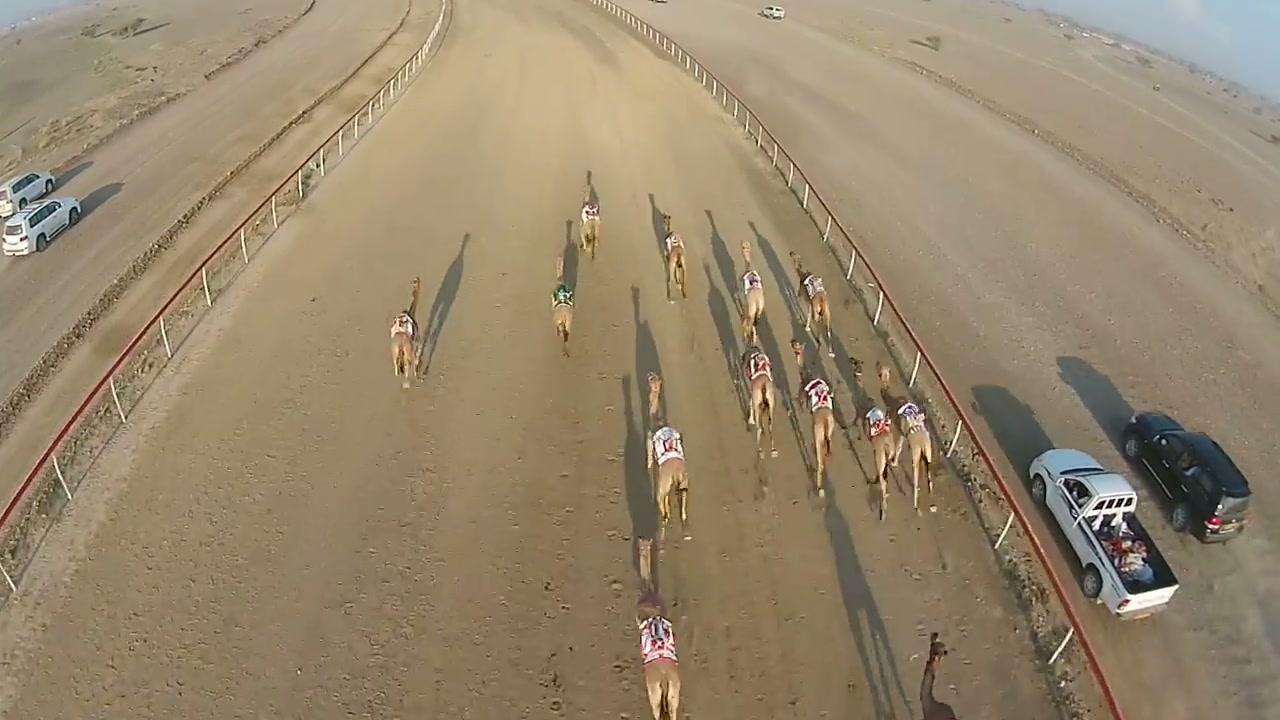animal_footprint: (522, 242, 648, 718)
